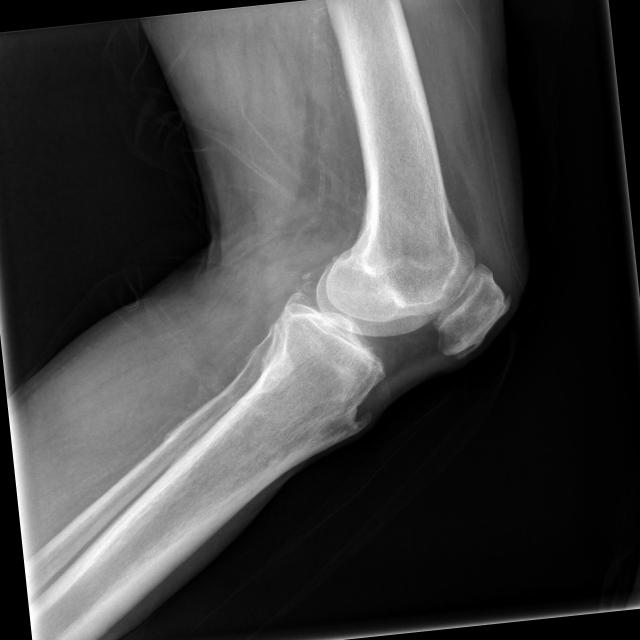Knee: (255, 210, 522, 426)
